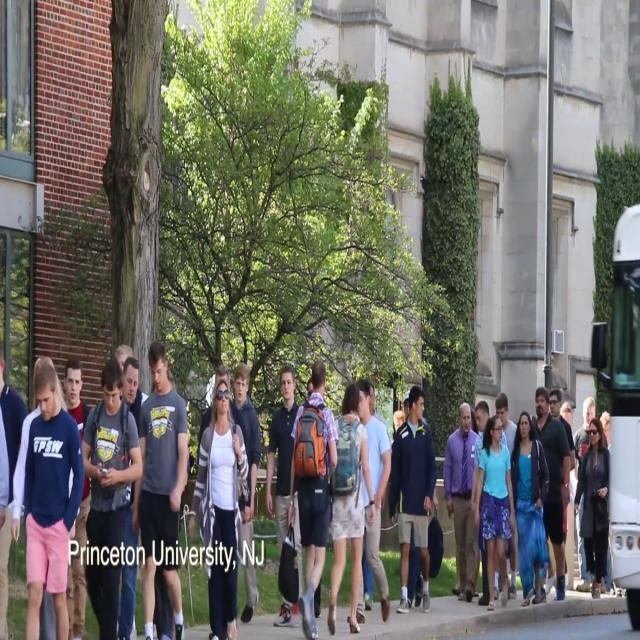body: (10, 355, 82, 639), (129, 338, 191, 639), (21, 353, 85, 639), (80, 355, 143, 640), (276, 357, 339, 639), (192, 377, 250, 639), (323, 379, 377, 636), (386, 381, 438, 616), (346, 376, 394, 625), (152, 368, 192, 640), (266, 364, 304, 628), (115, 354, 148, 640), (61, 355, 92, 640), (473, 412, 517, 612), (531, 384, 571, 604), (506, 409, 550, 608), (0, 333, 28, 639), (356, 377, 392, 612), (231, 362, 263, 625), (198, 363, 248, 525), (572, 414, 614, 601), (443, 401, 481, 603), (541, 386, 577, 597), (472, 399, 508, 609), (572, 396, 608, 594), (494, 391, 520, 602), (306, 375, 324, 621), (408, 487, 442, 614), (558, 401, 578, 553), (115, 336, 149, 404), (0, 403, 11, 553), (599, 406, 619, 446), (393, 388, 409, 436), (468, 404, 478, 436), (450, 573, 461, 601), (528, 412, 537, 428)
